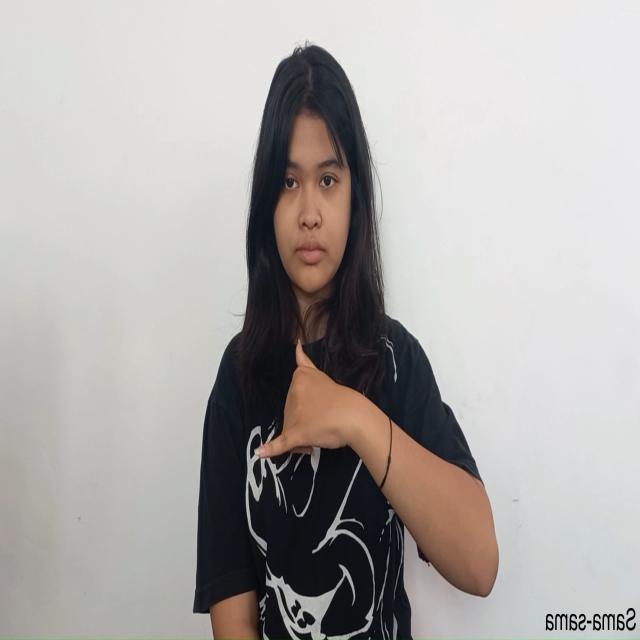Sama-sama -BISINDO-: (255, 335, 353, 464)
